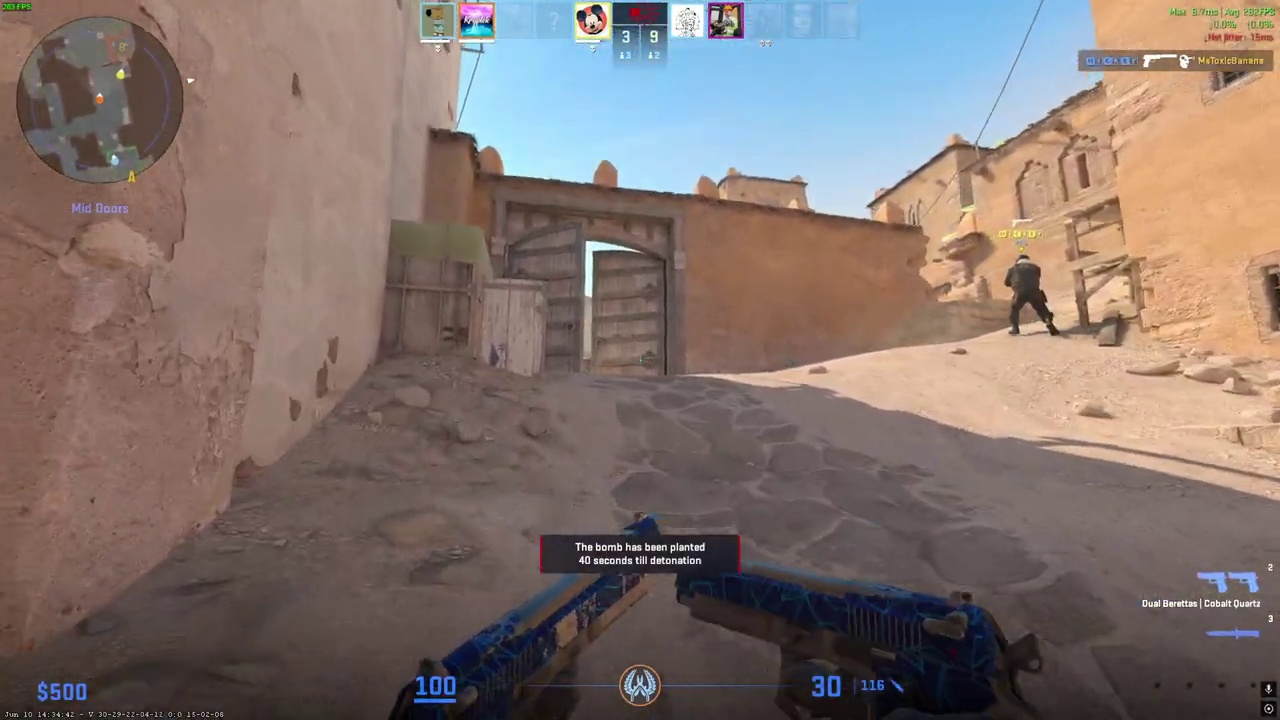CT: (1004, 254, 1057, 336)
